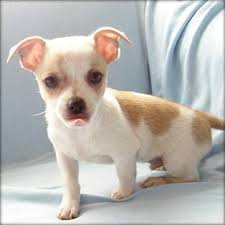chihuahua: (7, 25, 214, 220)
